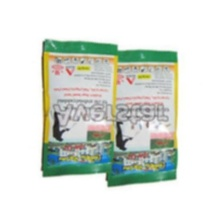insecticide: (95, 47, 180, 190), (37, 36, 120, 182)
